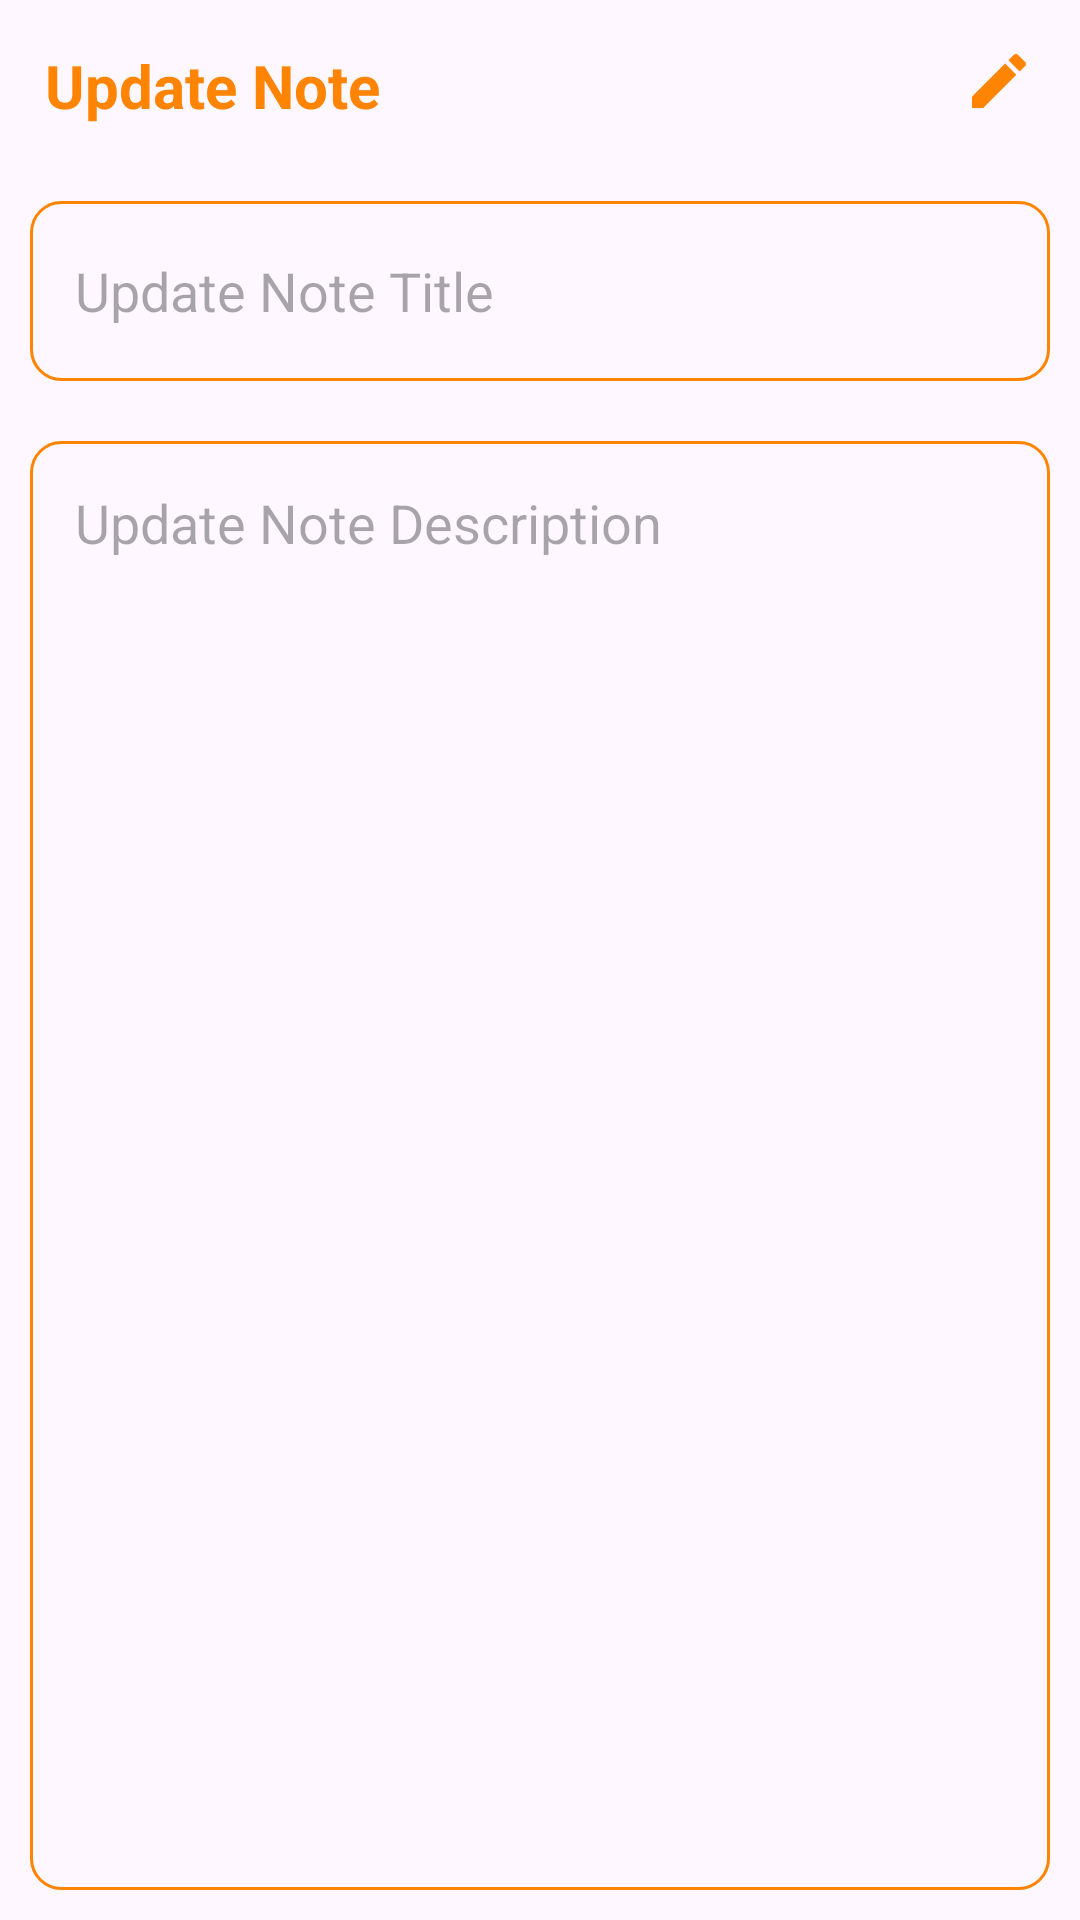

Icon click points for this 1080 x 1920 phone screenshot, format (x=x, y=y):
edit: (x=999, y=81)
